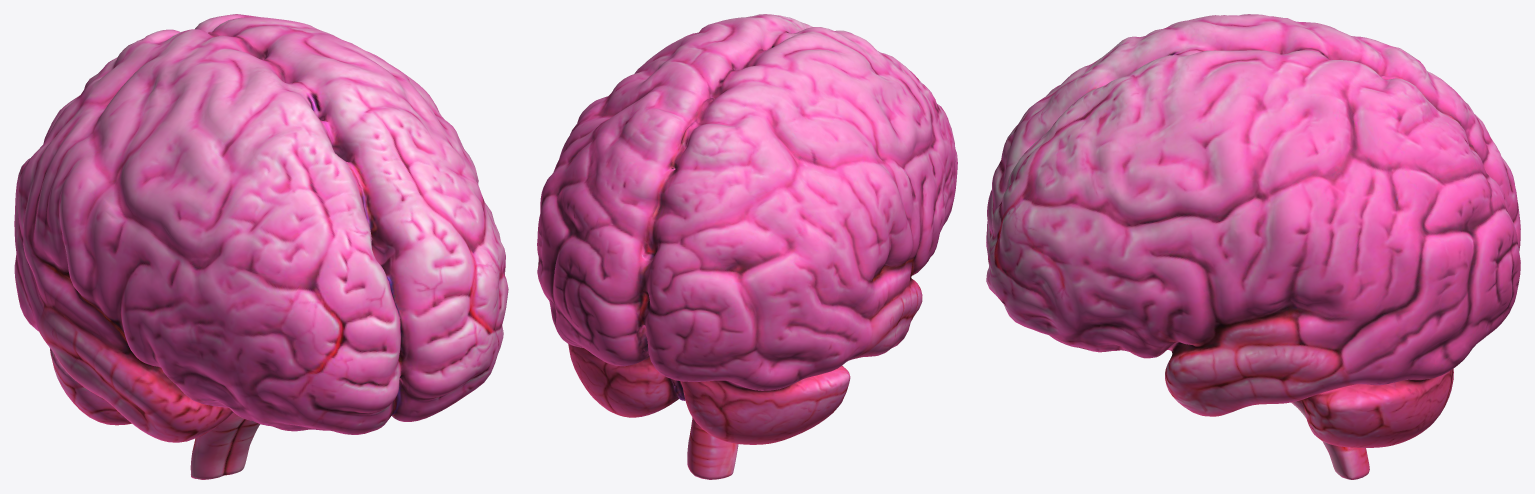
File: brain.glb
The picture shows the model from 3 angles, left to right: view 1: azimuth 30°, elevation 25°; view 2: azimuth 150°, elevation 25°; view 3: azimuth 270°, elevation 25°; orthographic projection. The views are drawn at different scales.
Parts seen in each view (by area): view 1: Stylized Human Brain; view 2: Stylized Human Brain; view 3: Stylized Human Brain.
Part boxes in pixels (x1,y1,x2,y2): Stylized Human Brain: (14, 14, 508, 479); Stylized Human Brain: (537, 14, 957, 479); Stylized Human Brain: (986, 14, 1520, 479).
Bounding box in the file's own units: 0.1276 × 0.1488 × 0.1666.
Materials: 1 (1 with a texture image).
